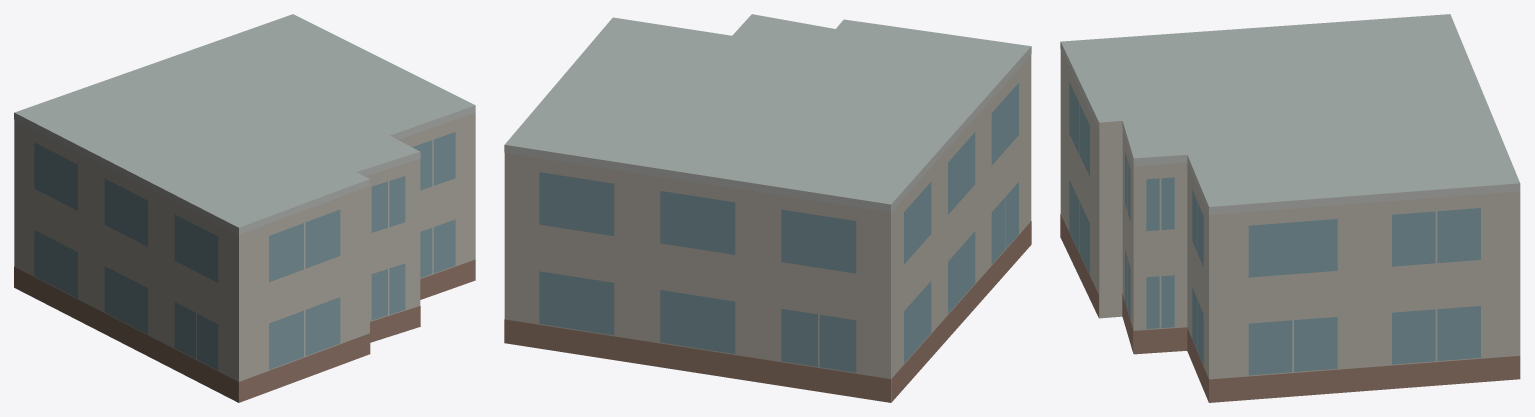
The model's file is survey-upis-32820265.glb.
3 renders of one model, left to right at view 1: azimuth 30°, elevation 25°; view 2: azimuth 150°, elevation 25°; view 3: azimuth 270°, elevation 25°, orthographic. The views are drawn at different scales.
Visible parts, largest first — view 1: survey-upis-32820265.tmp; view 2: survey-upis-32820265.tmp; view 3: survey-upis-32820265.tmp.
Boxes of the visible parts, x1,y1,x2,y2 form: survey-upis-32820265.tmp: (14, 14, 475, 402); survey-upis-32820265.tmp: (504, 14, 1031, 402); survey-upis-32820265.tmp: (1060, 14, 1520, 402).
Bounding box in the file's own units: 12.9 × 6.1 × 12.99.
